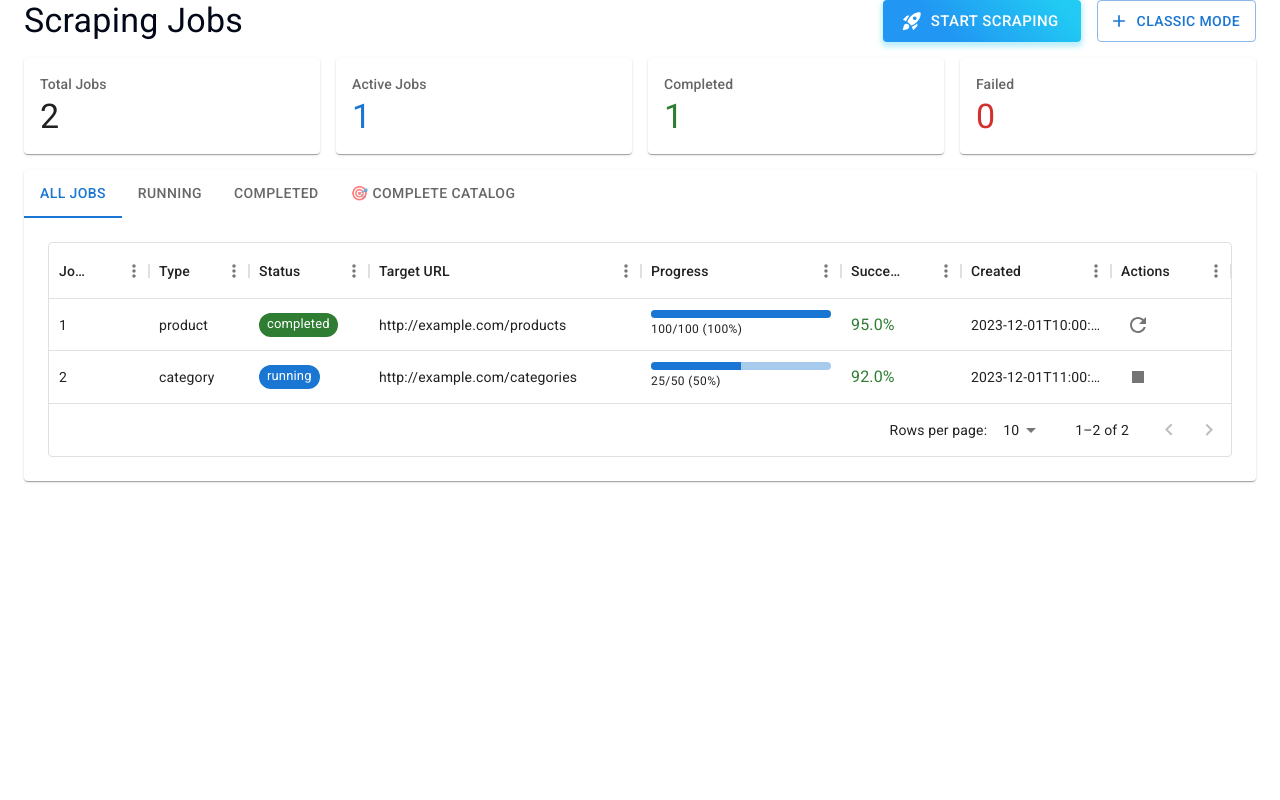
it: Scraping Page › should open classic mode dialog
What coordinates should you click on to do the following:
click the button "Classic Mode"
I would click on:
 (1176, 21)
Its box is x1=1097 y1=0 x2=1256 y2=42.
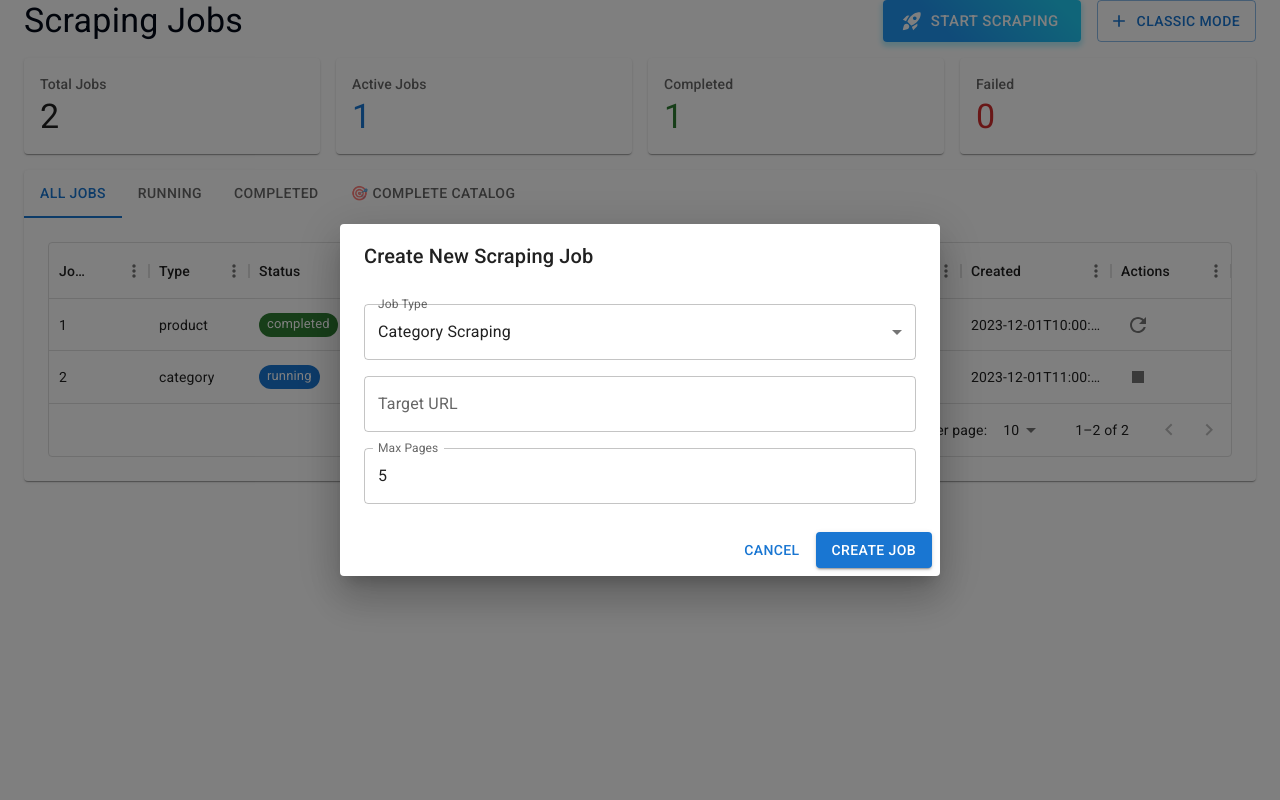
Result: the heading "Create New Scraping Job" is shown at x1=364 y1=244 x2=594 y2=268
